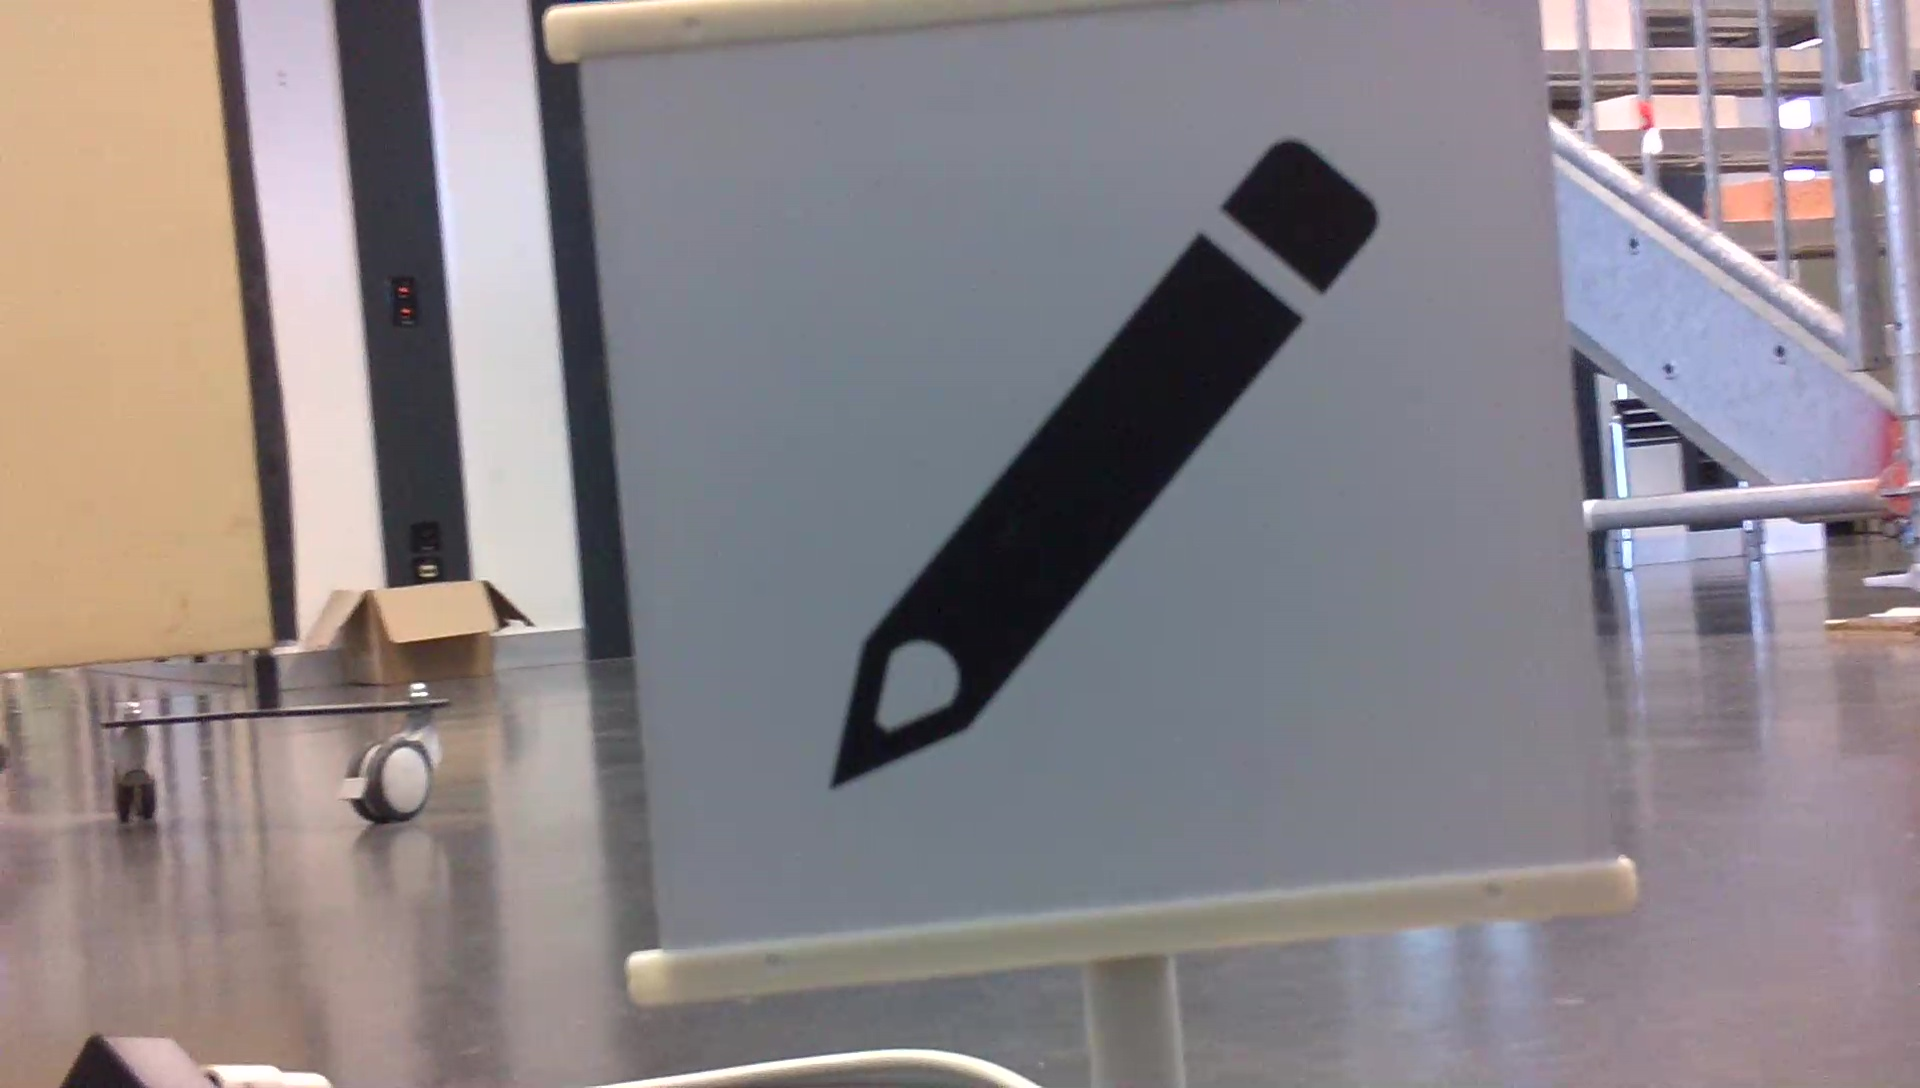pencil: (804, 123, 1400, 807)
